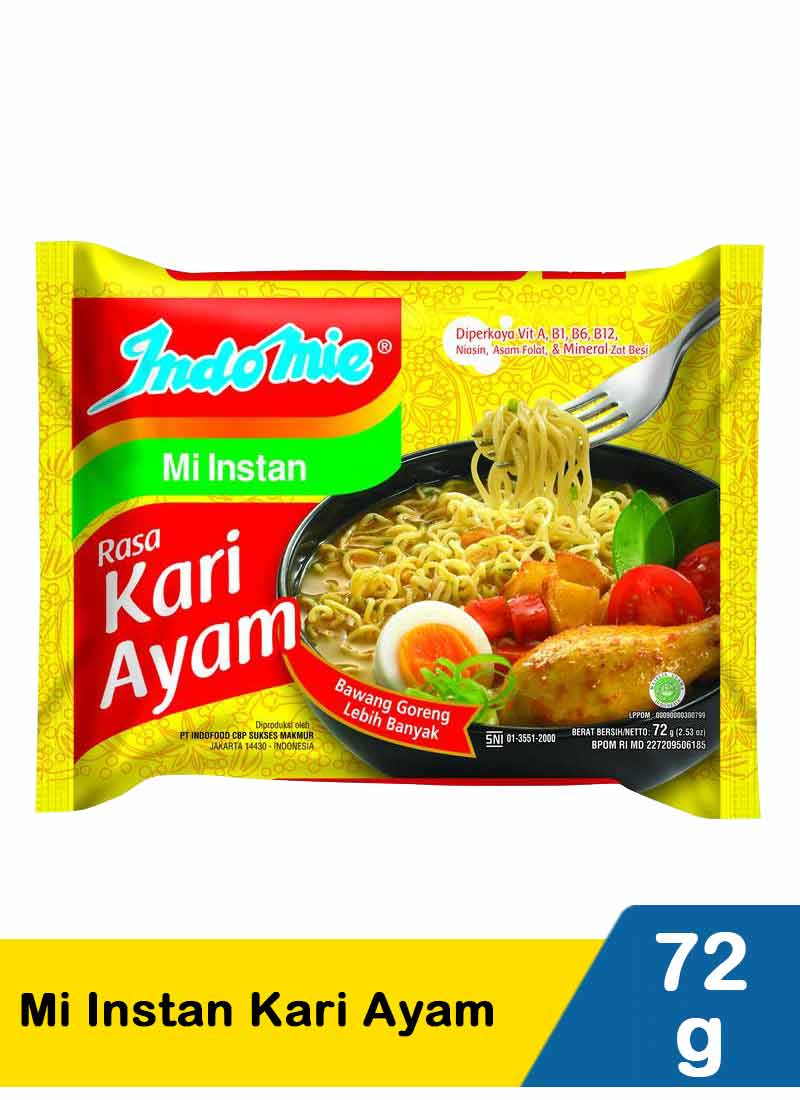indomie kari ayam: (28, 214, 779, 825)
